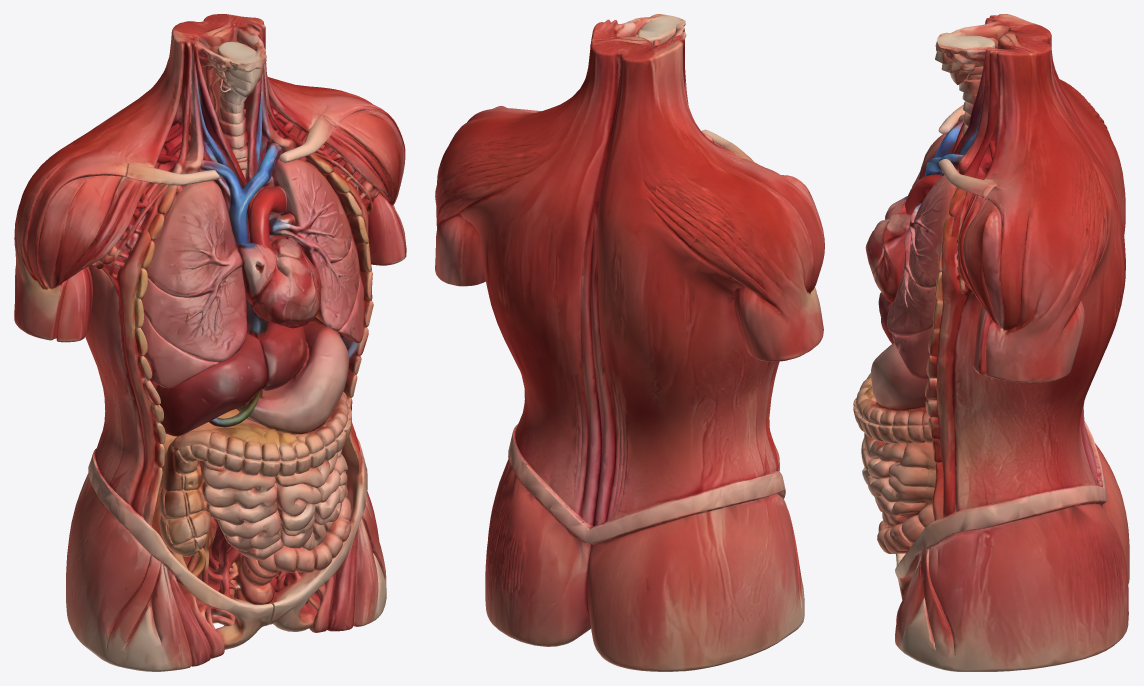
Rendered from body-torso.glb.
The picture shows the model from 3 angles, left to right: view 1: azimuth 30°, elevation 25°; view 2: azimuth 150°, elevation 25°; view 3: azimuth 270°, elevation 25°; orthographic projection.
Parts seen in each view (by area): view 1: model; view 2: model; view 3: model.
Boxes of the visible parts, bbox=[...] form: model: bbox=[14, 14, 406, 671]; model: bbox=[435, 14, 824, 671]; model: bbox=[853, 14, 1129, 671].
Bounding box in the file's own units: 1.27 × 1.9 × 0.8287.
Materials: 1 (1 with a texture image).
